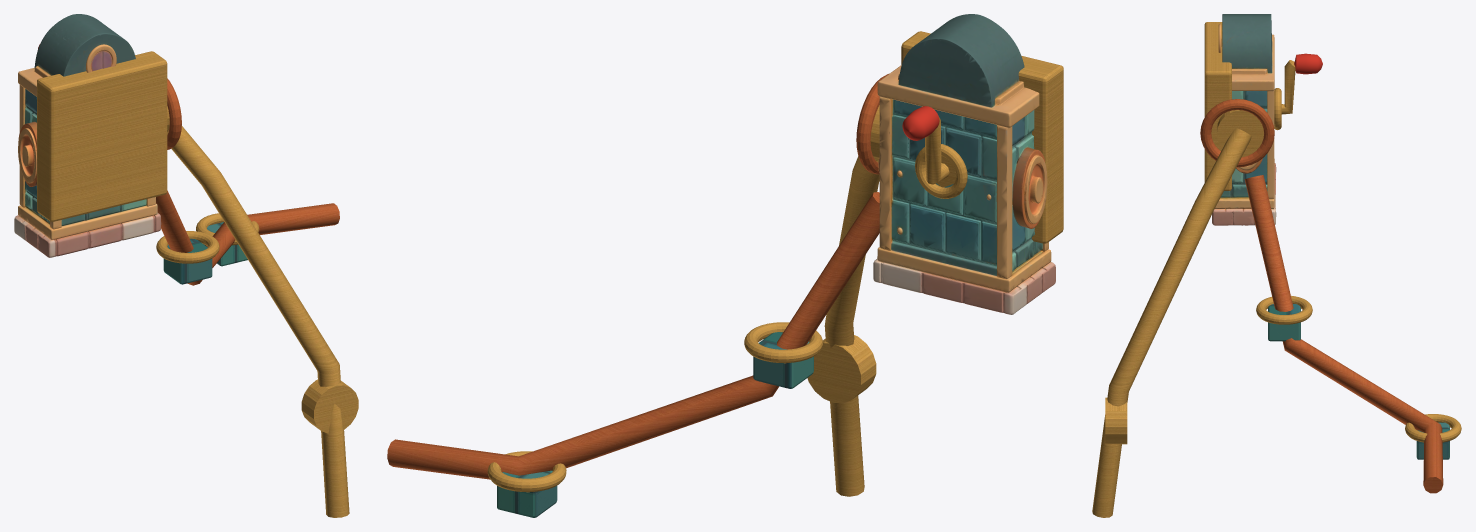
File: act2_bridge_winch.glb
3 views of the same model, side by side, from view 1: azimuth 30°, elevation 25°; view 2: azimuth 150°, elevation 25°; view 3: azimuth 270°, elevation 25° (orthographic). The views are drawn at different scales.
Parts seen in each view (by area): view 1: SM_BridgeWinch_Shafts, RODIN_act2_winch_console_rodin_Part; view 2: RODIN_act2_winch_console_rodin_Part, SM_BridgeWinch_Shafts, ANIM_Winch_Crank_Mesh; view 3: SM_BridgeWinch_Shafts, RODIN_act2_winch_console_rodin_Part, ANIM_Winch_Crank_Mesh.
Part boxes in pixels (box(x1,y1,x2,y2)): SM_BridgeWinch_Shafts: box(37, 51, 358, 517); RODIN_act2_winch_console_rodin_Part: box(14, 14, 161, 257); RODIN_act2_winch_console_rodin_Part: box(873, 14, 1055, 314); SM_BridgeWinch_Shafts: box(387, 31, 1063, 517); ANIM_Winch_Crank_Mesh: box(902, 106, 967, 198); SM_BridgeWinch_Shafts: box(1092, 22, 1461, 517); RODIN_act2_winch_console_rodin_Part: box(1212, 14, 1276, 225); ANIM_Winch_Crank_Mesh: box(1274, 53, 1322, 130).
Bounding box in the file's own units: 1.55 × 1.69 × 1.34.
Materials: 5 (4 with a texture image).
